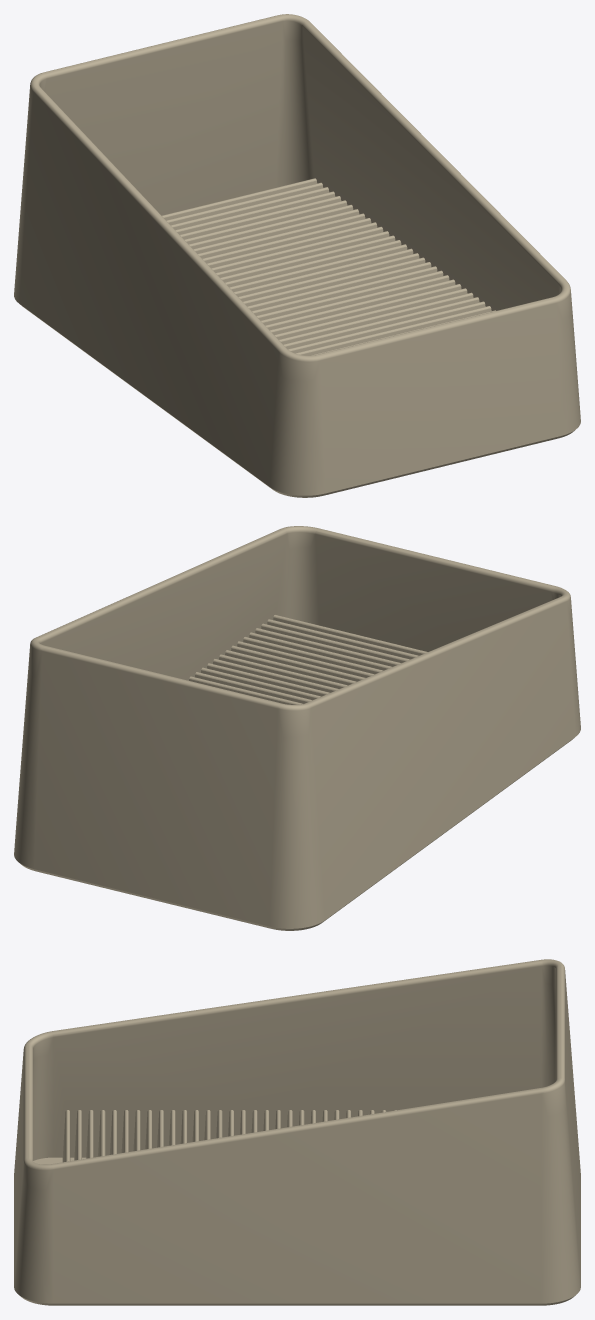
The model's file is crate.glb.
3 renders of one model, top to bottom at view 1: azimuth 30°, elevation 25°; view 2: azimuth 150°, elevation 25°; view 3: azimuth 270°, elevation 25°, orthographic. The views are drawn at different scales.
Parts seen in each view (by area): view 1: part0_0; view 2: part0_0; view 3: part0_0.
Part boxes in pixels (x1,y1,x2,y2): part0_0: [14, 14, 580, 497]; part0_0: [14, 526, 580, 930]; part0_0: [14, 959, 580, 1305].
Size of the model in its own units: 0.0881 by 0.0602 by 0.1453.
